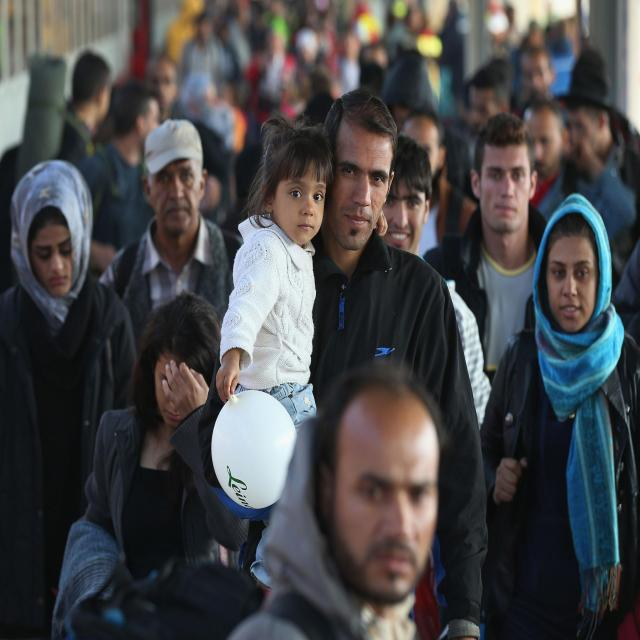body: (0, 1, 639, 211), (308, 84, 492, 640), (478, 190, 640, 640), (0, 157, 142, 640), (226, 358, 449, 640), (62, 293, 250, 601), (212, 111, 334, 583), (96, 118, 245, 360), (422, 112, 549, 388), (379, 136, 492, 434)
